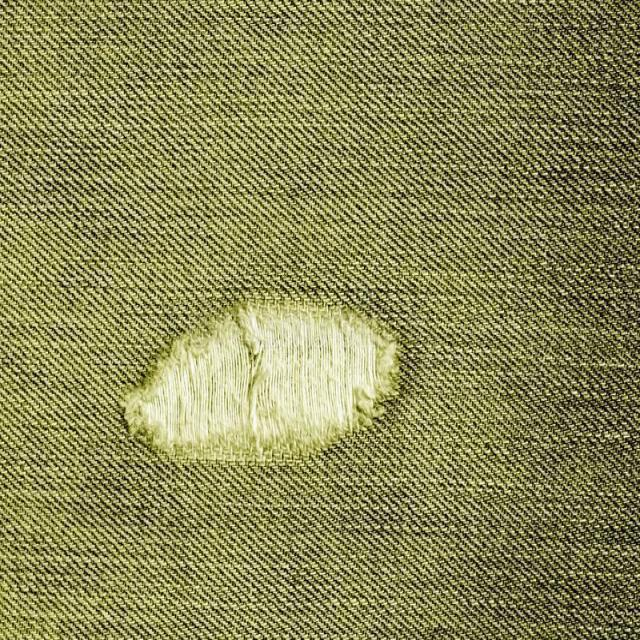Hole: (124, 302, 399, 462)
